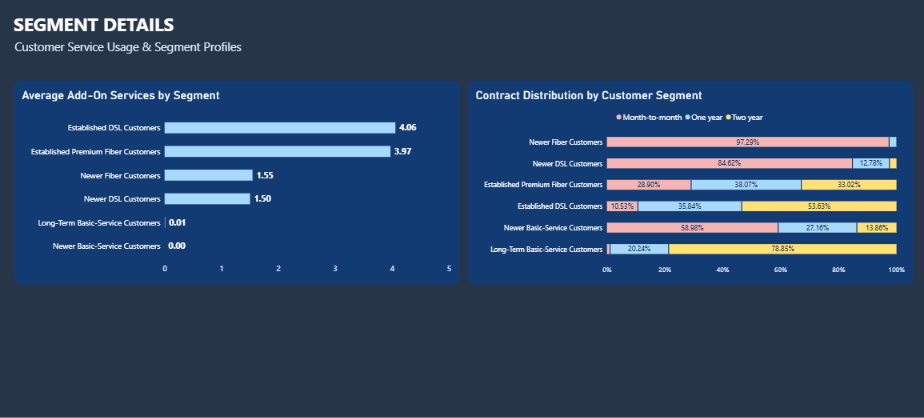

This screenshot's page, from the dashboard's own definition file:
{"tool":"powerbi","page":{"name":"Segment Details","canvas":[1920,1080],"ordinal":2},"visuals":[{"type":"textbox","box":[32,28,1000,56],"z":0},{"type":"textbox","box":[34,85,1000,34],"z":1},{"type":"clusteredBarChart","title":"Average Add-On Services by Segment","fields":{"Category":["customer_segments.Segment"],"Y":["CRM_Customers.Average AddOns"]},"box":[32,170,918,420],"z":2},{"type":"hundredPercentStackedBarChart","title":"Contract Distribution by Customer Segment","fields":{"Category":["customer_segments.Segment"],"Series":["CRM_Customers.Contract"],"Y":["CRM_Customers.Total Customers"]},"box":[968,170,918,420],"z":3}]}

Visuals, with their boxes on the page's 1920x1080 design canvas (x1, y1, x2, y2). These are canvas units, not pixel positions in the 924x418 screenshot, which may show the page scaled, cropped or inside an application window:
textbox: locate(32, 28, 1032, 84)
textbox: locate(34, 85, 1034, 119)
"Average Add-On Services by Segment" clusteredBarChart: locate(32, 170, 950, 590)
"Contract Distribution by Customer Segment" hundredPercentStackedBarChart: locate(968, 170, 1886, 590)
